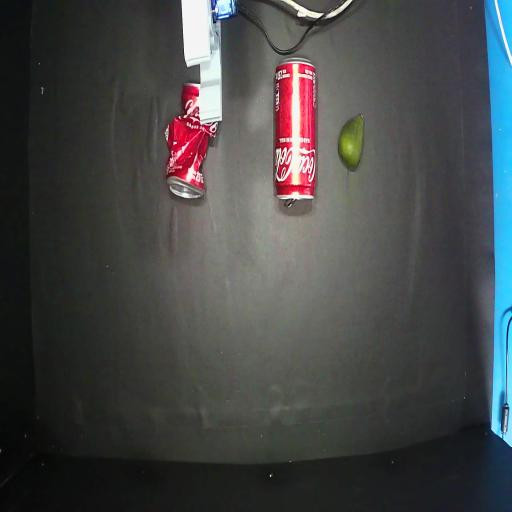higo: (338, 114, 364, 169)
lata: (274, 60, 317, 205)
lata_defectuoso: (165, 82, 218, 198)
